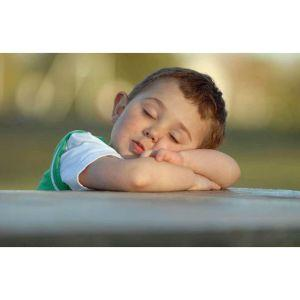sleep: (33, 67, 242, 190), (130, 97, 192, 159)
